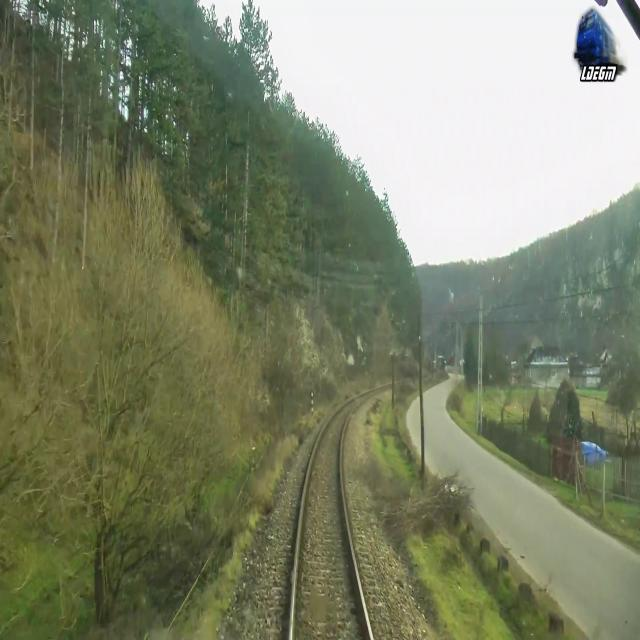rail-track: (294, 396, 368, 639)
